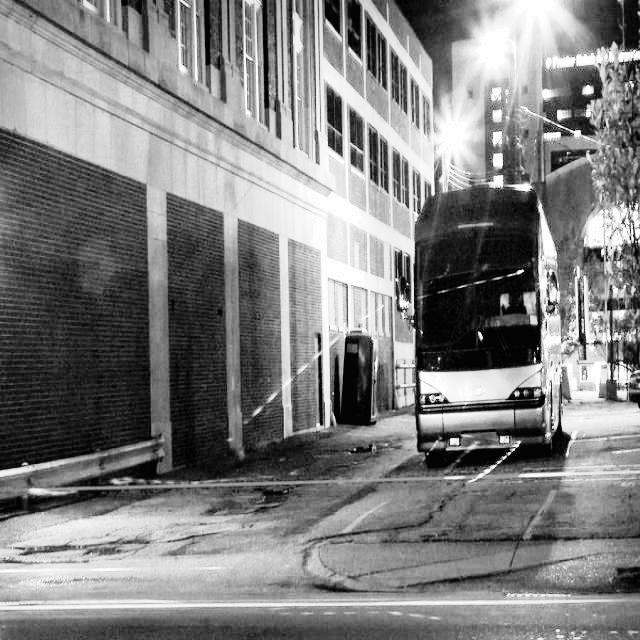Bus: (388, 170, 571, 461)
